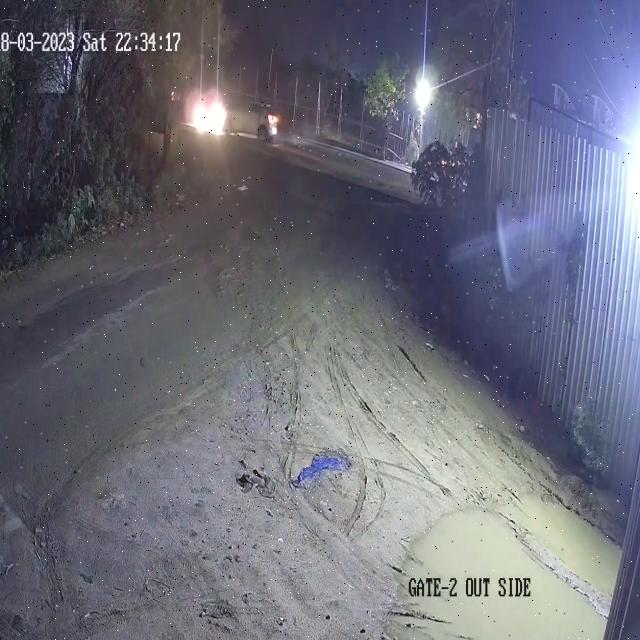accident: (177, 81, 285, 151)
